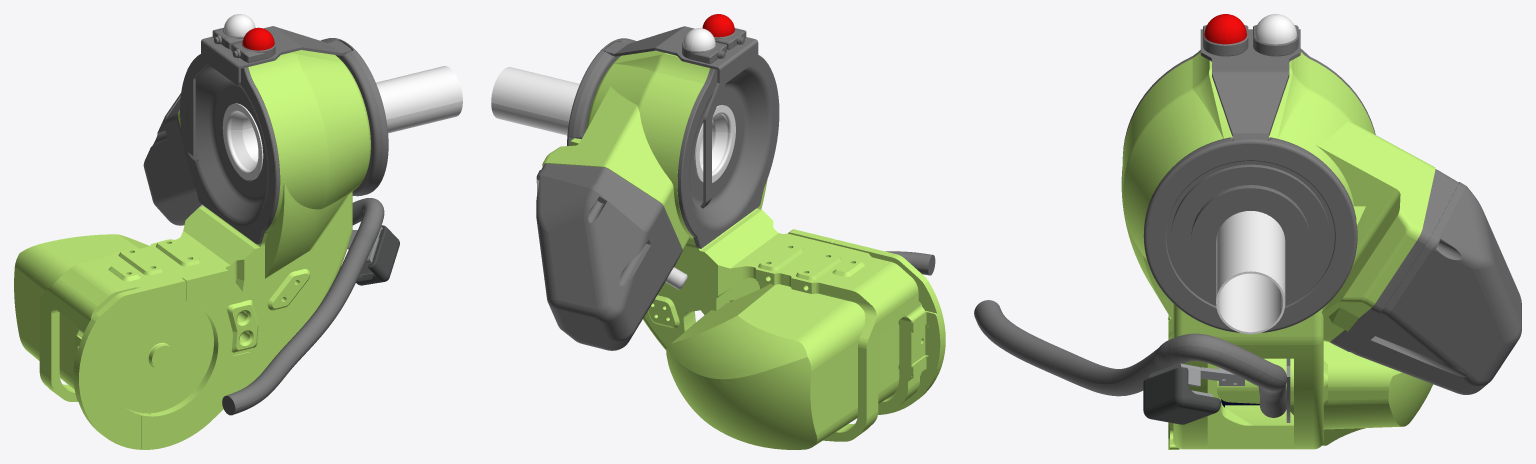
3 renders of one model, left to right at view 1: azimuth 30°, elevation 25°; view 2: azimuth 150°, elevation 25°; view 3: azimuth 270°, elevation 25°, orthographic. The views are drawn at different scales.
Parts seen in each view (by area): view 1: Mesh_0; view 2: Mesh_0; view 3: Mesh_0.
Boxes of the visible parts, left/top/right/bottom form: Mesh_0: left=14, top=14, right=462, bottom=449; Mesh_0: left=491, top=14, right=945, bottom=449; Mesh_0: left=974, top=14, right=1521, bottom=449.
Bounding box in the file's own units: 0.5421 × 0.4816 × 0.4821.
